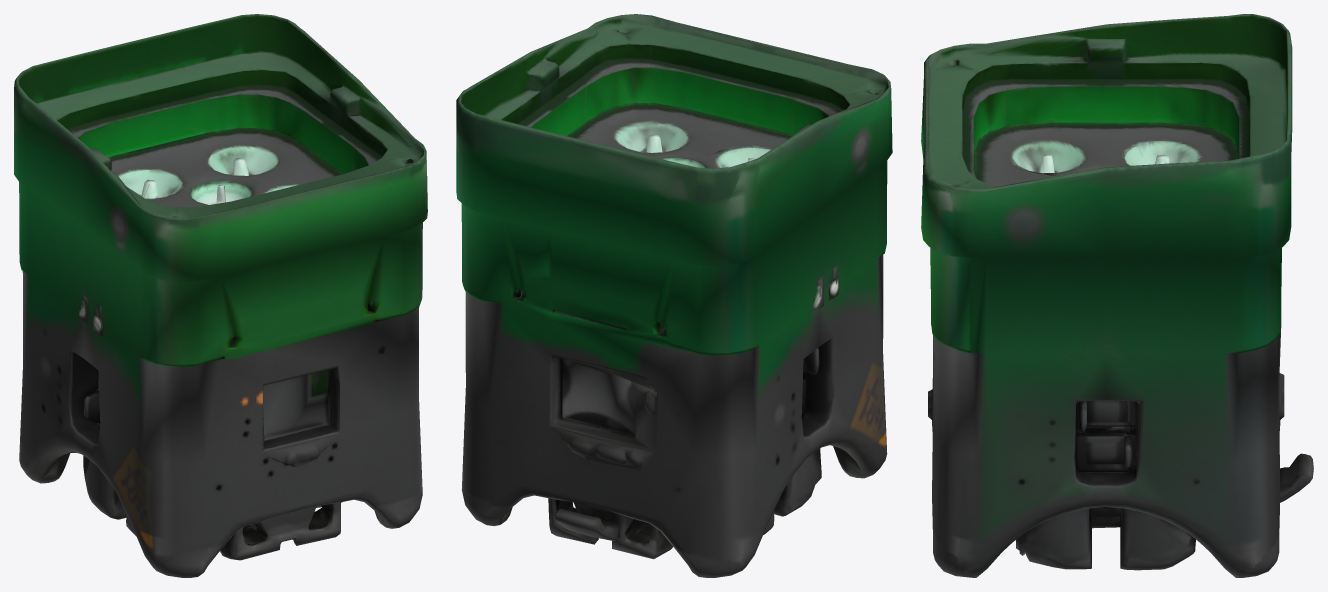
File: LED_Par_upLight_14InchesTall0218205751_texture.glb
3 renders of one model, left to right at view 1: azimuth 30°, elevation 25°; view 2: azimuth 150°, elevation 25°; view 3: azimuth 270°, elevation 25°, orthographic. The views are drawn at different scales.
Parts seen in each view (by area): view 1: Mesh_0; view 2: Mesh_0; view 3: Mesh_0.
Part boxes in pixels (x1,y1,x2,y2): Mesh_0: [14, 14, 427, 577]; Mesh_0: [456, 14, 892, 577]; Mesh_0: [921, 14, 1313, 577].
Bounding box in the file's own units: 0.2578 × 0.3556 × 0.2906.
Materials: 1 (1 with a texture image).
